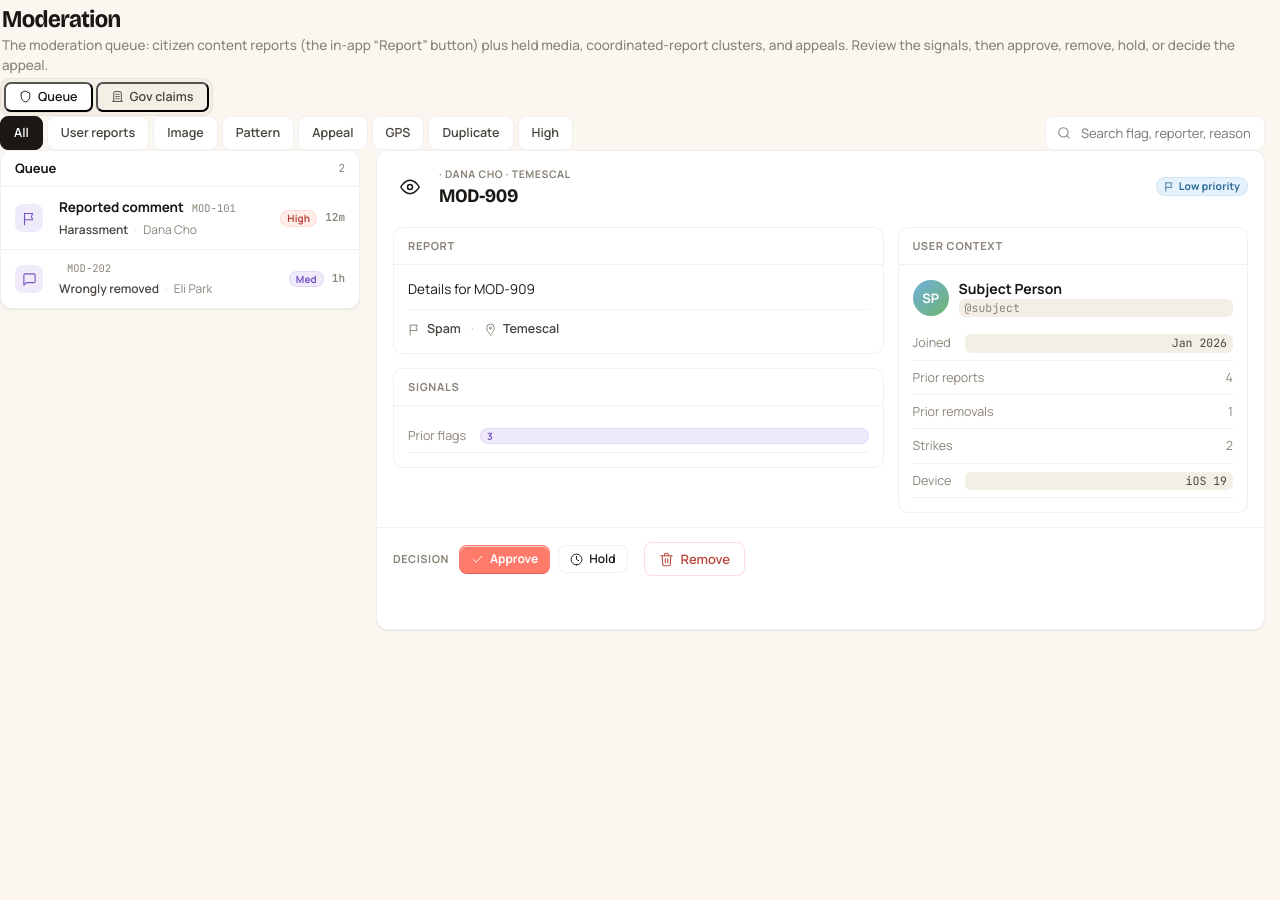
Scenario: ModerationPage selection after a decision › clears a deep-linked item once it is removed, though the list never held it, and opens nothing else
expect the heading "MOD-909" is shown: met, box 439,184 -> 518,207
expect the text "MOD-101" is shown: met, box 192,201 -> 236,216
Click the button "Remove": (694, 559) 644,542 -> 745,576
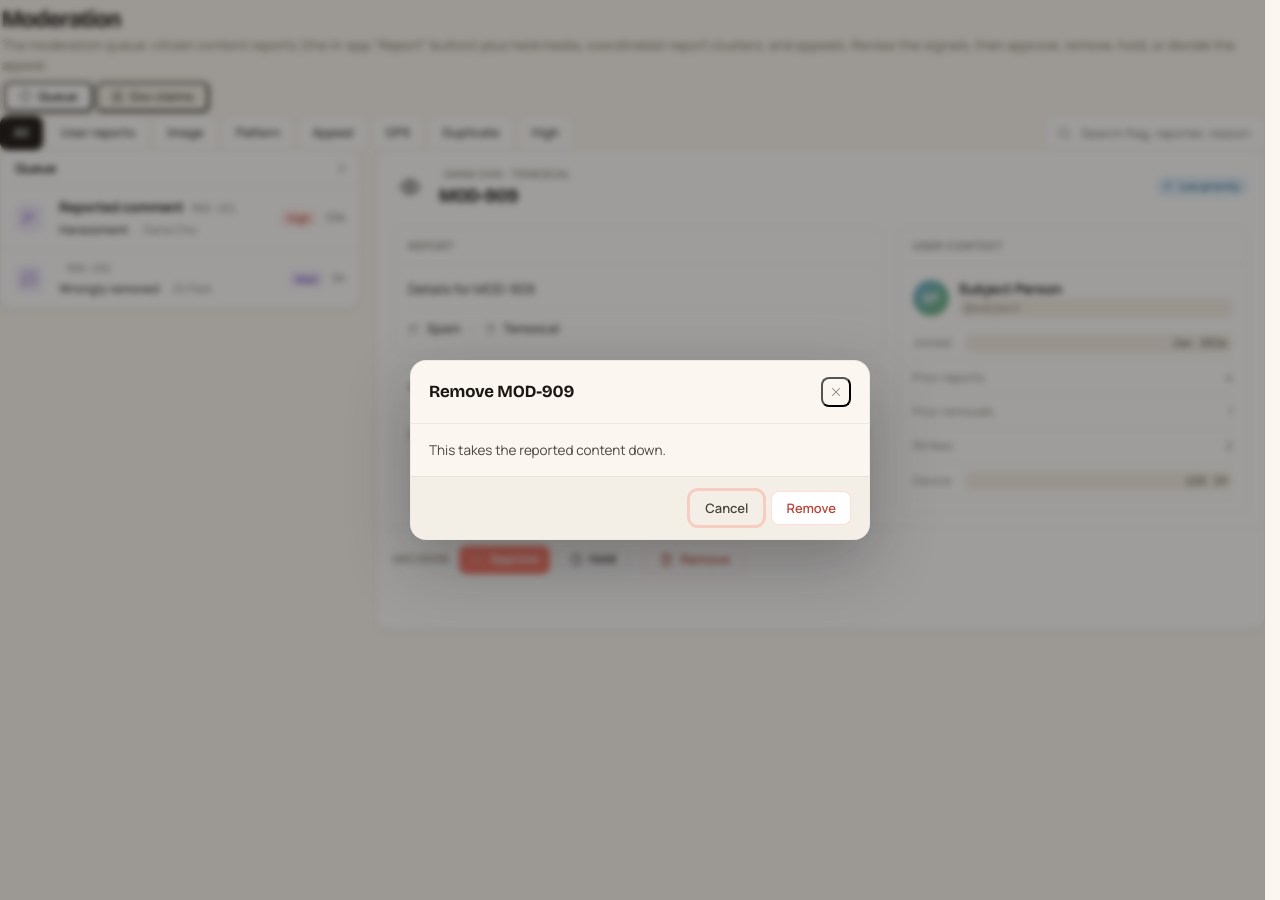
Click the button "Remove": (811, 508) 771,491 -> 851,525
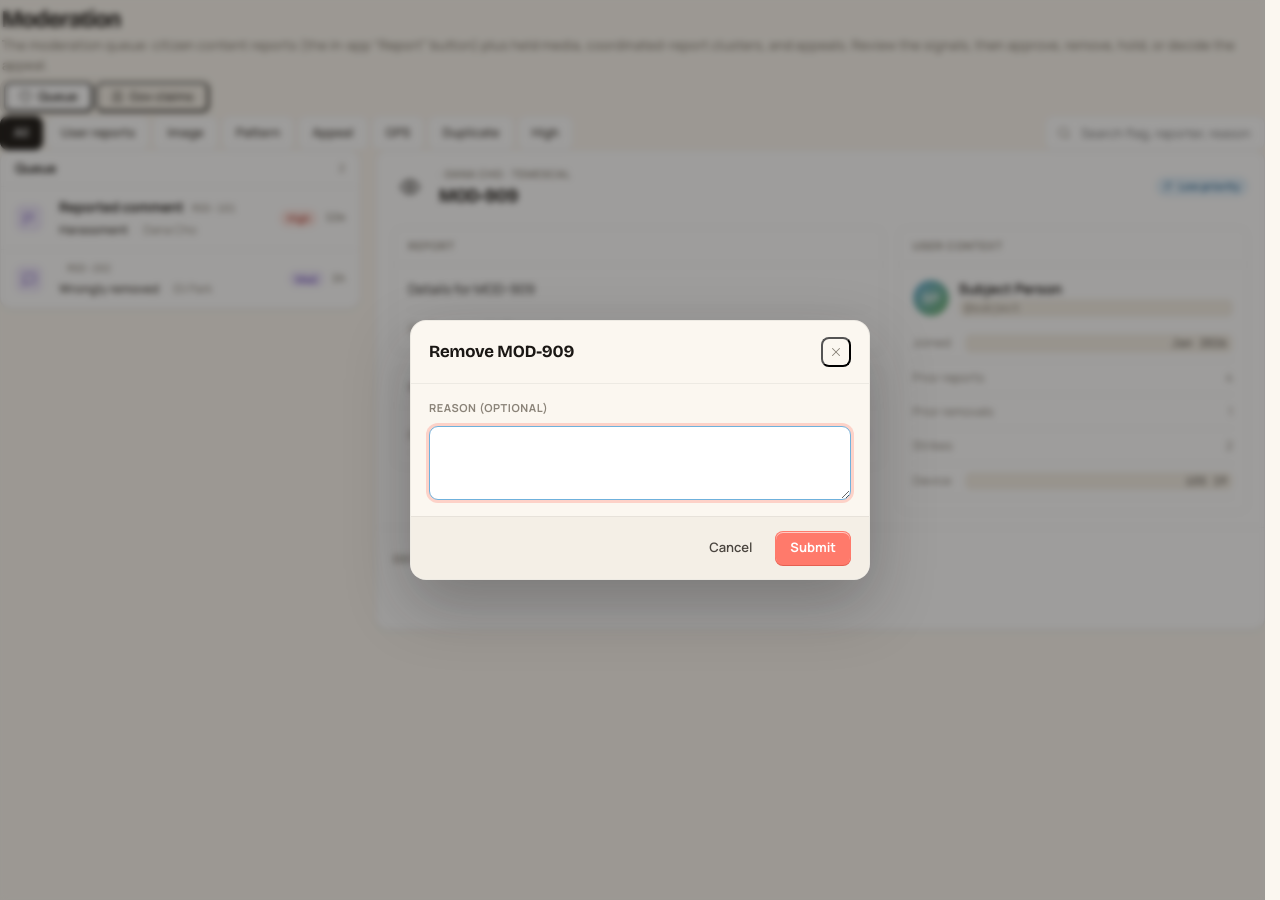
Click the button "Submit": (813, 548) 775,531 -> 851,565
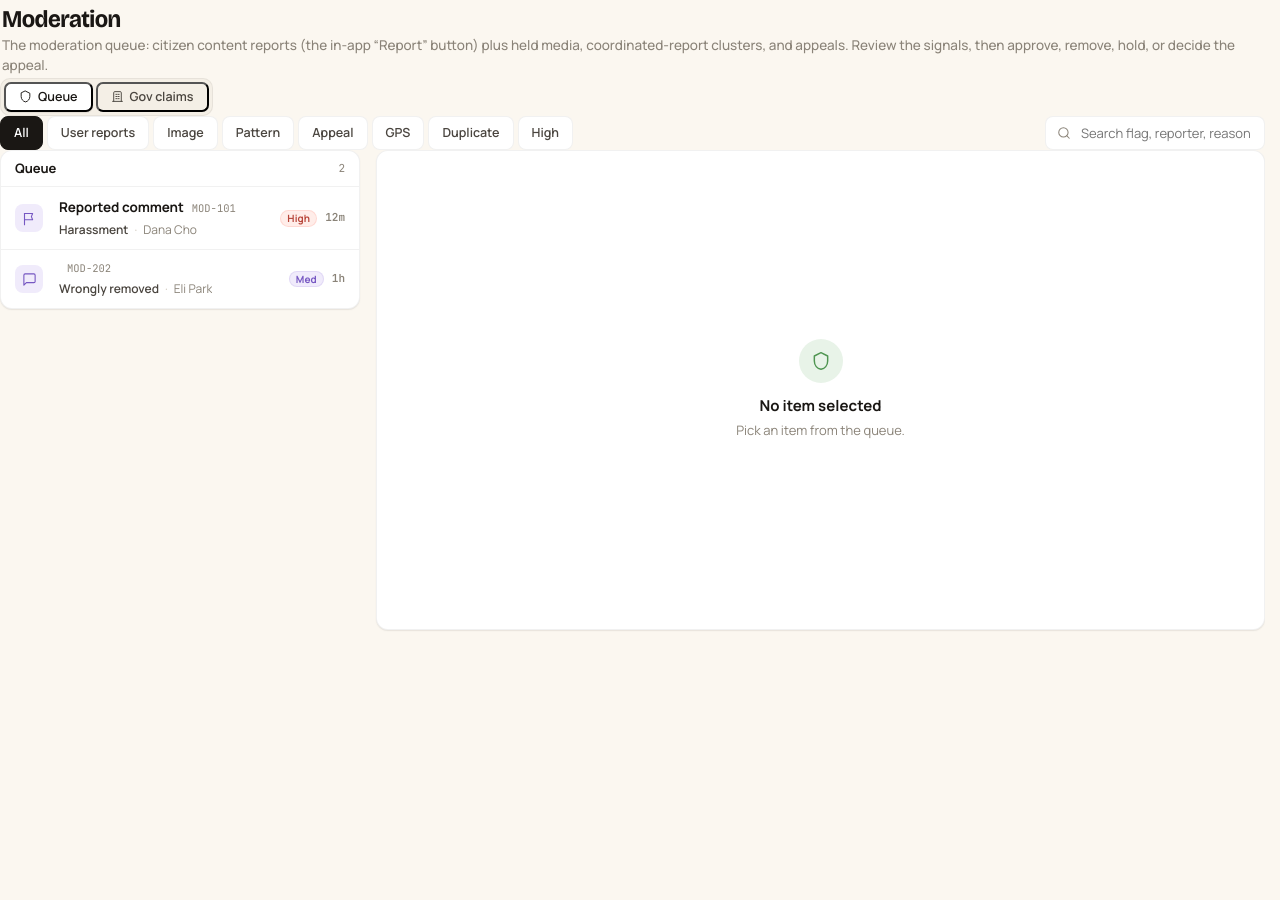
expect the text "No item selected" is shown: met, box 760,395 -> 882,417
